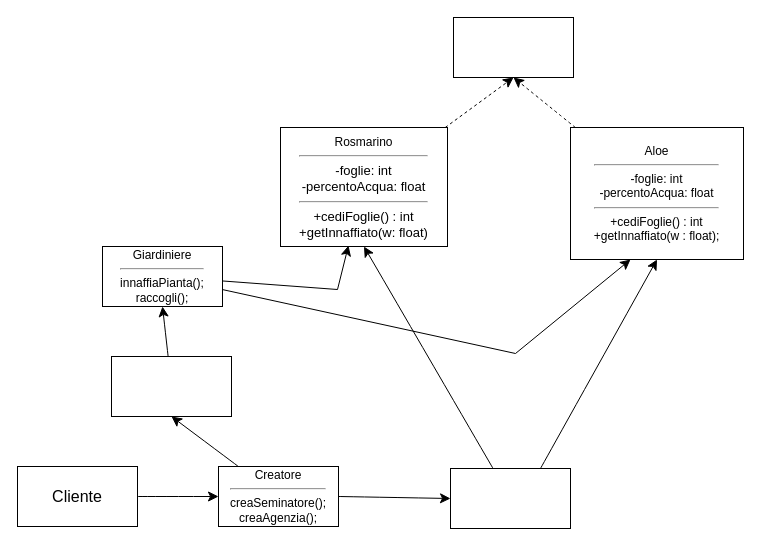
Some shapes in this 761 by 546 pixel diagram are drawn without their labels. The centre of each missing label's shape, as x and y in pixels:
"<<interface>> Pianta" belongs at (513,47).
"Agenzia getGiardiniere();" belongs at (171,386).
"Seminatore getPianta()" belongs at (510,498).
